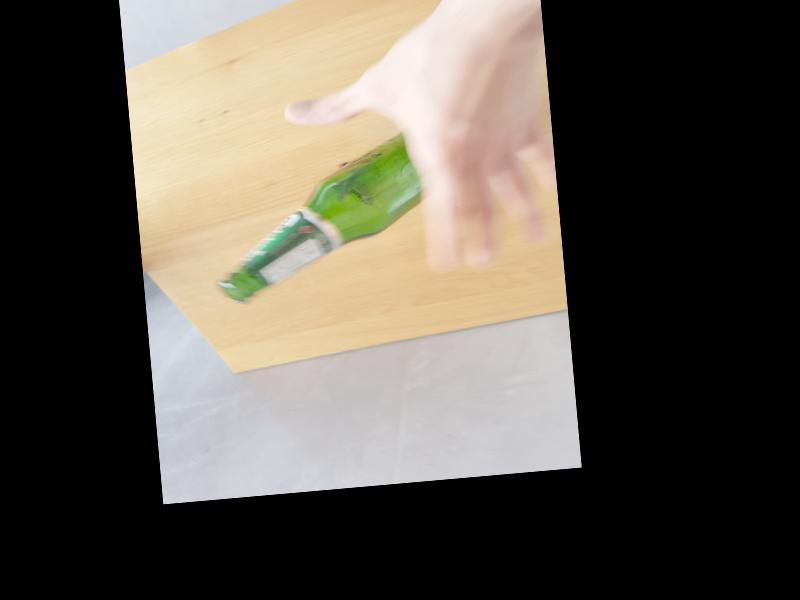Beer: (205, 130, 430, 305)
